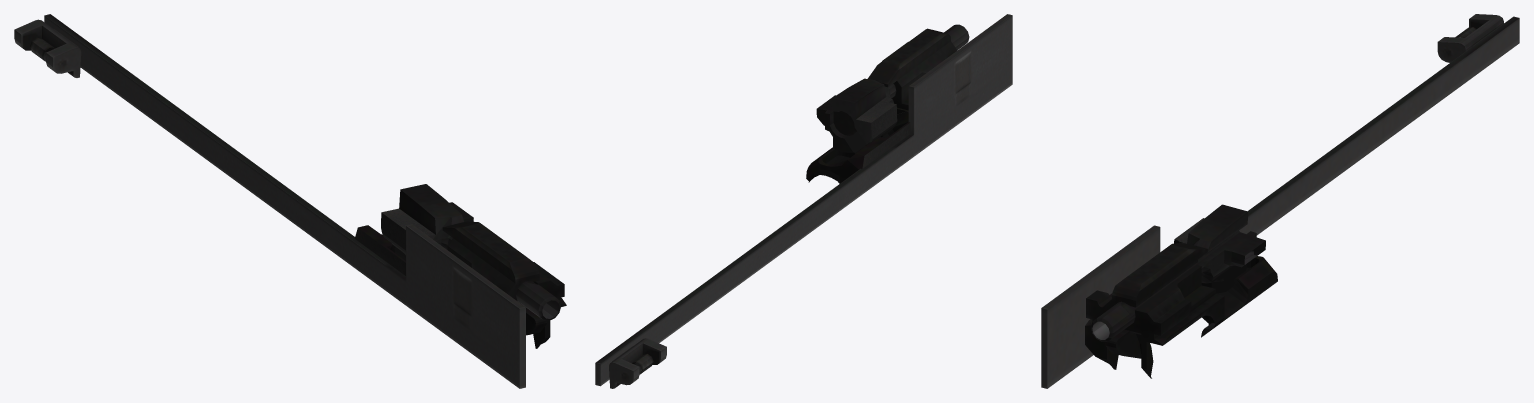
The picture shows the model from 3 angles, left to right: view 1: azimuth 30°, elevation 25°; view 2: azimuth 150°, elevation 25°; view 3: azimuth 330°, elevation 25°; orthographic projection. The views are drawn at different scales.
Parts seen in each view (by area): view 1: TW_5cadfbf7ae92152ac412eeef_PZ_Import; view 2: TW_5cadfbf7ae92152ac412eeef_PZ_Import; view 3: TW_5cadfbf7ae92152ac412eeef_PZ_Import.
Boxes of the visible parts, x1=… form: TW_5cadfbf7ae92152ac412eeef_PZ_Import: x1=14, y1=14, x2=566, y2=388; TW_5cadfbf7ae92152ac412eeef_PZ_Import: x1=595, y1=14, x2=1012, y2=388; TW_5cadfbf7ae92152ac412eeef_PZ_Import: x1=1041, y1=14, x2=1519, y2=388.
Size of the model in its own units: 0.0259 by 0.1803 by 0.0196.
1 material, 1 textured.
